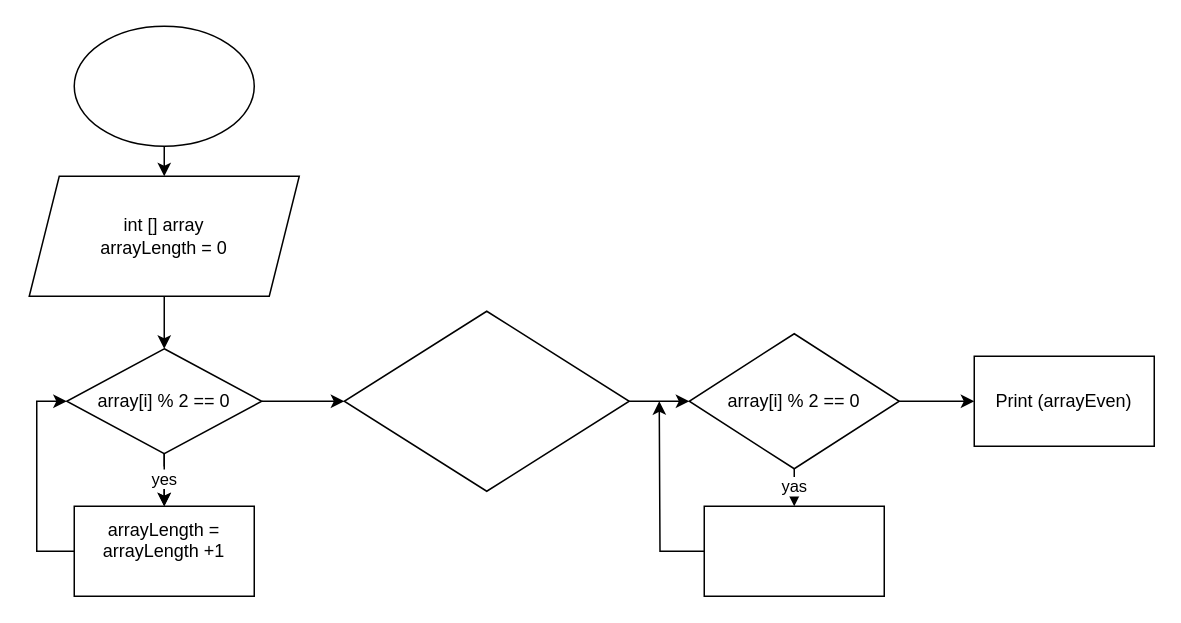
This 1181x623 diagram has some shape labels left out. The shapes that lost their labels are listed below. From the top down, each one's centre as x and y in pixels, then its label:
At pixel 163 85: "Start".
At pixel 486 400: "int [] arrayEven = new int [arratLength]".
At pixel 793 550: "arrayEven[j] = array[i] j = j+1;".
